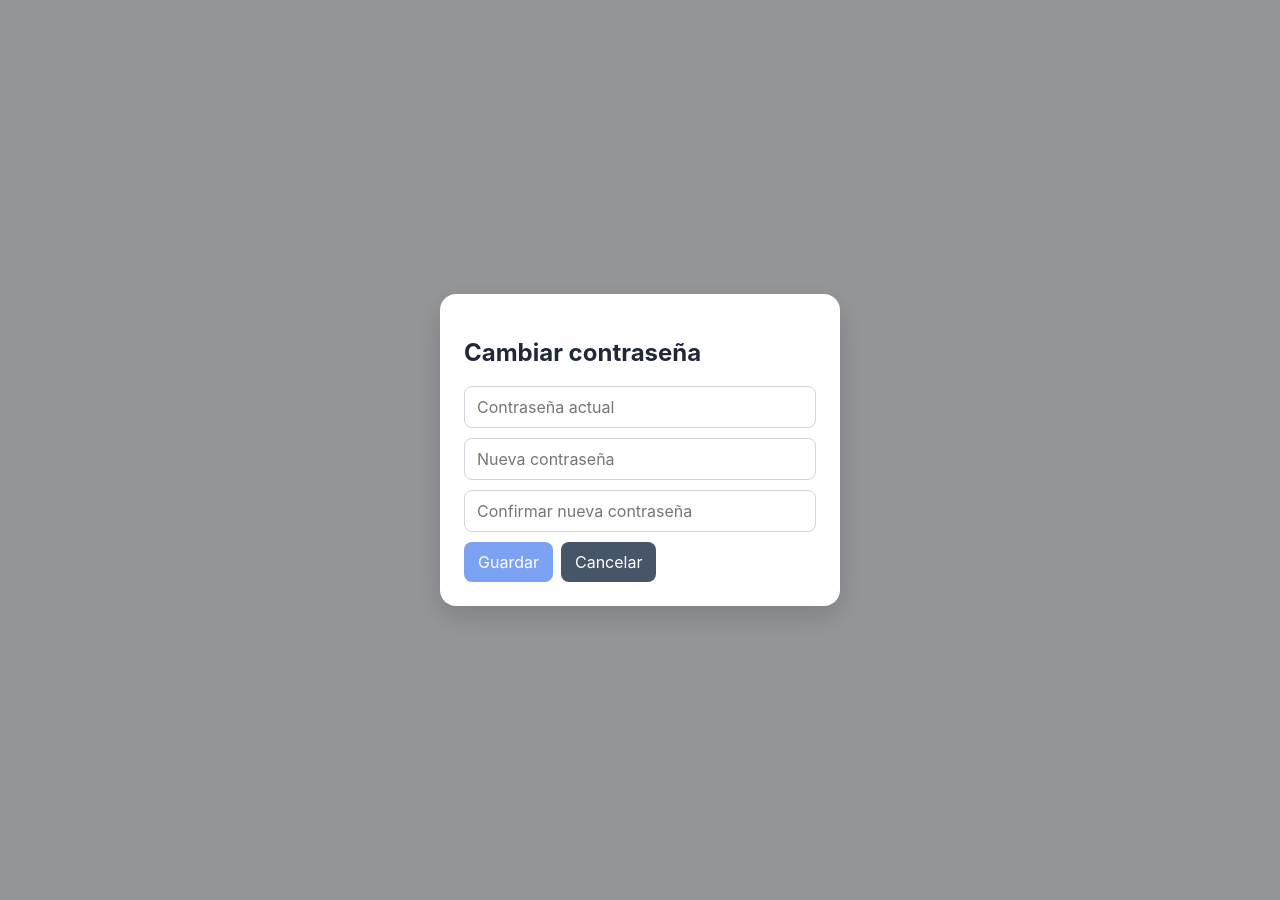
Test: ChangePasswordModal › shows error when passwords do not match
The width and height of the screenshot is (1280, 900).
In the password field with placeholder "Contraseña actual": (640, 407) [464,386,816,428], type "old"
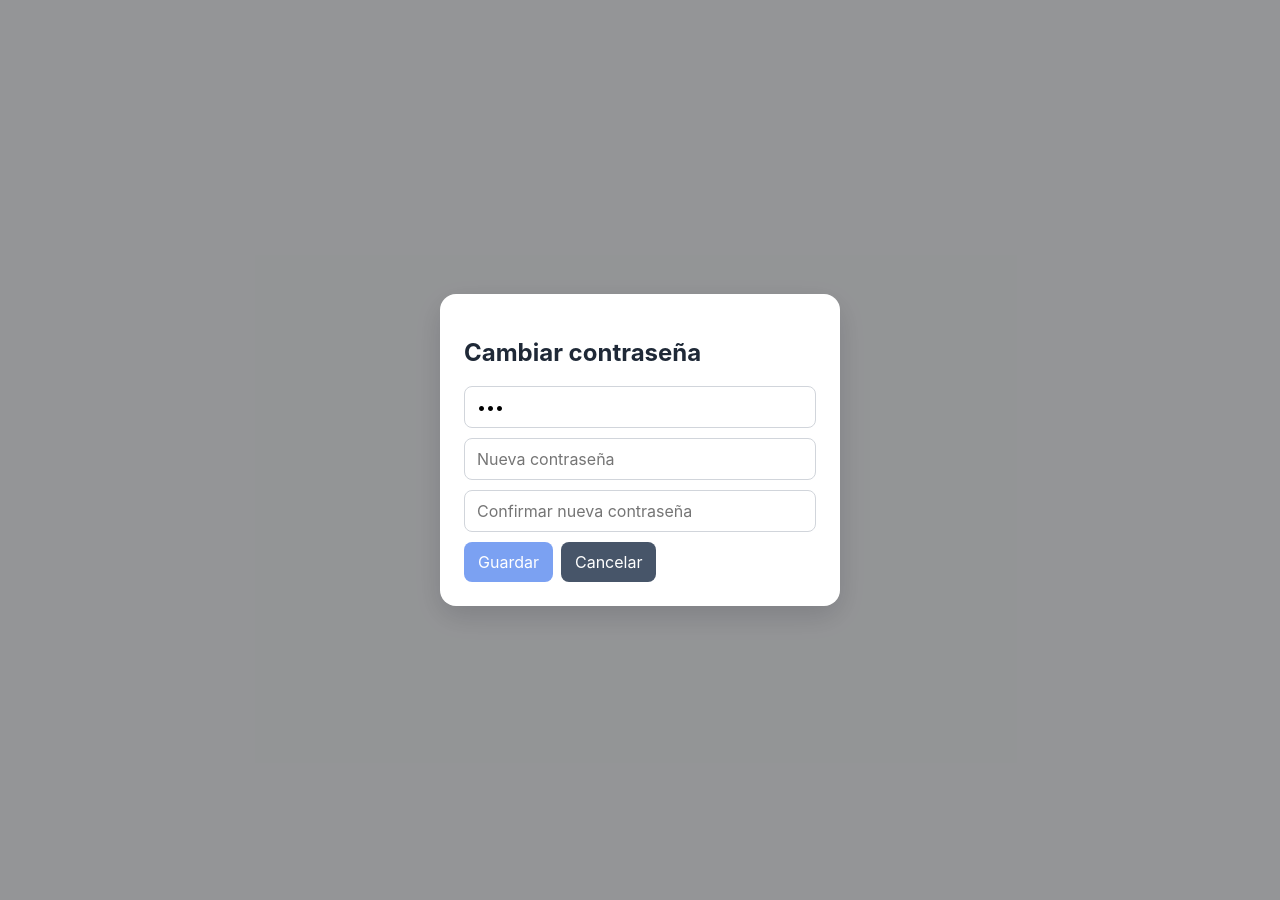
In the password field with placeholder "Nueva contraseña": (640, 459) [464,438,816,480], type "new123"
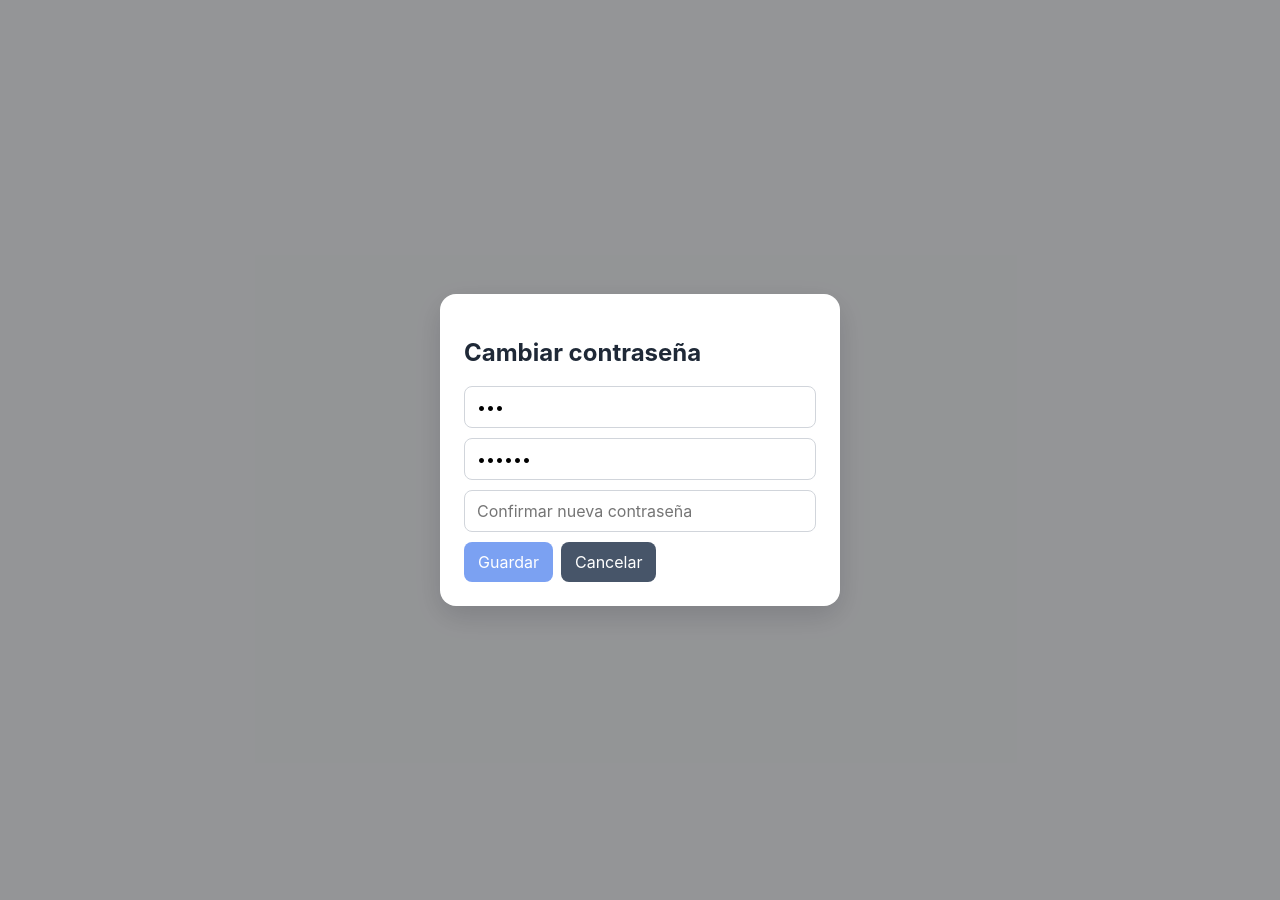
In the password field with placeholder "Confirmar nueva contraseña": (640, 511) [464,490,816,532], type "different"
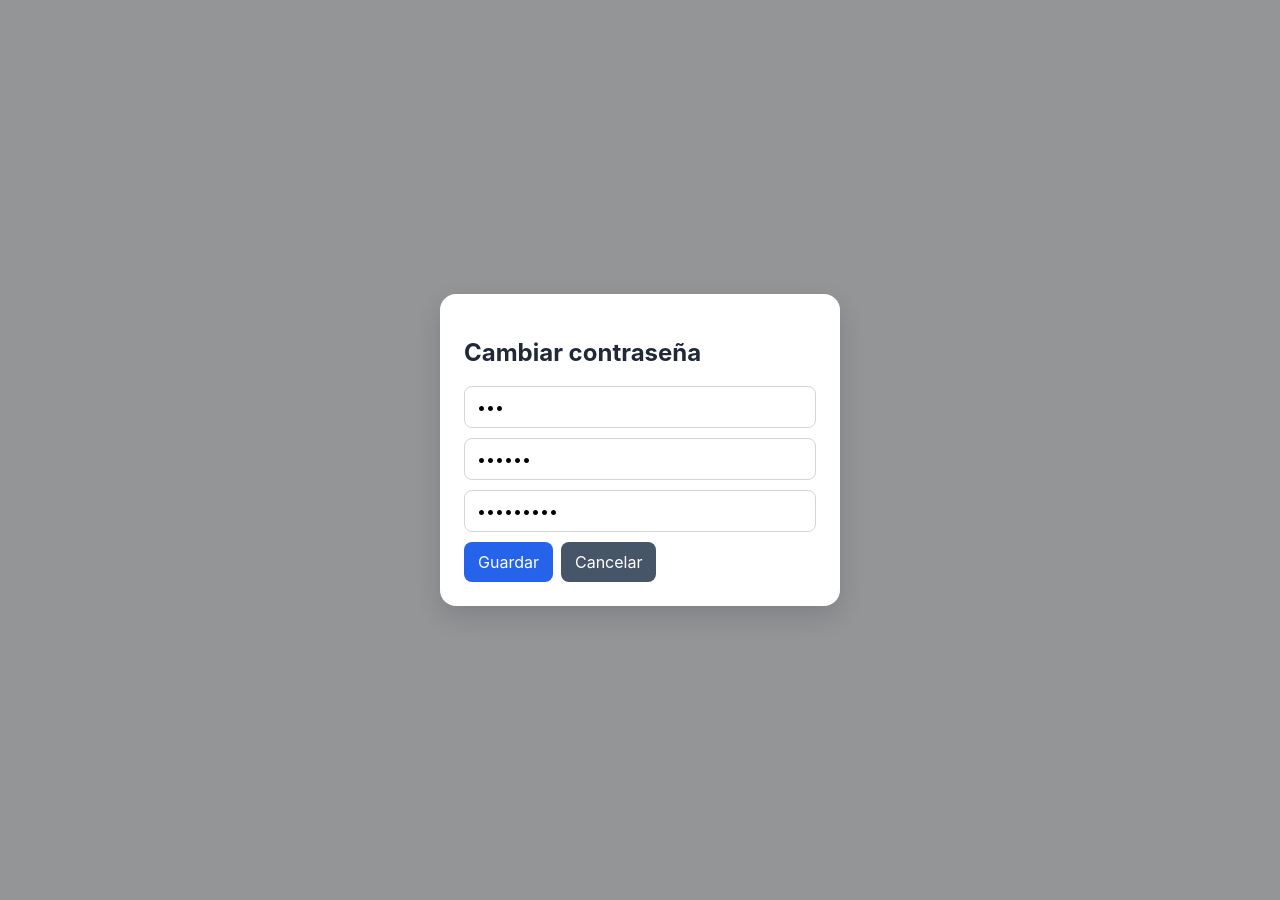
Click the button "Guardar": (508, 562) [464,542,553,582]
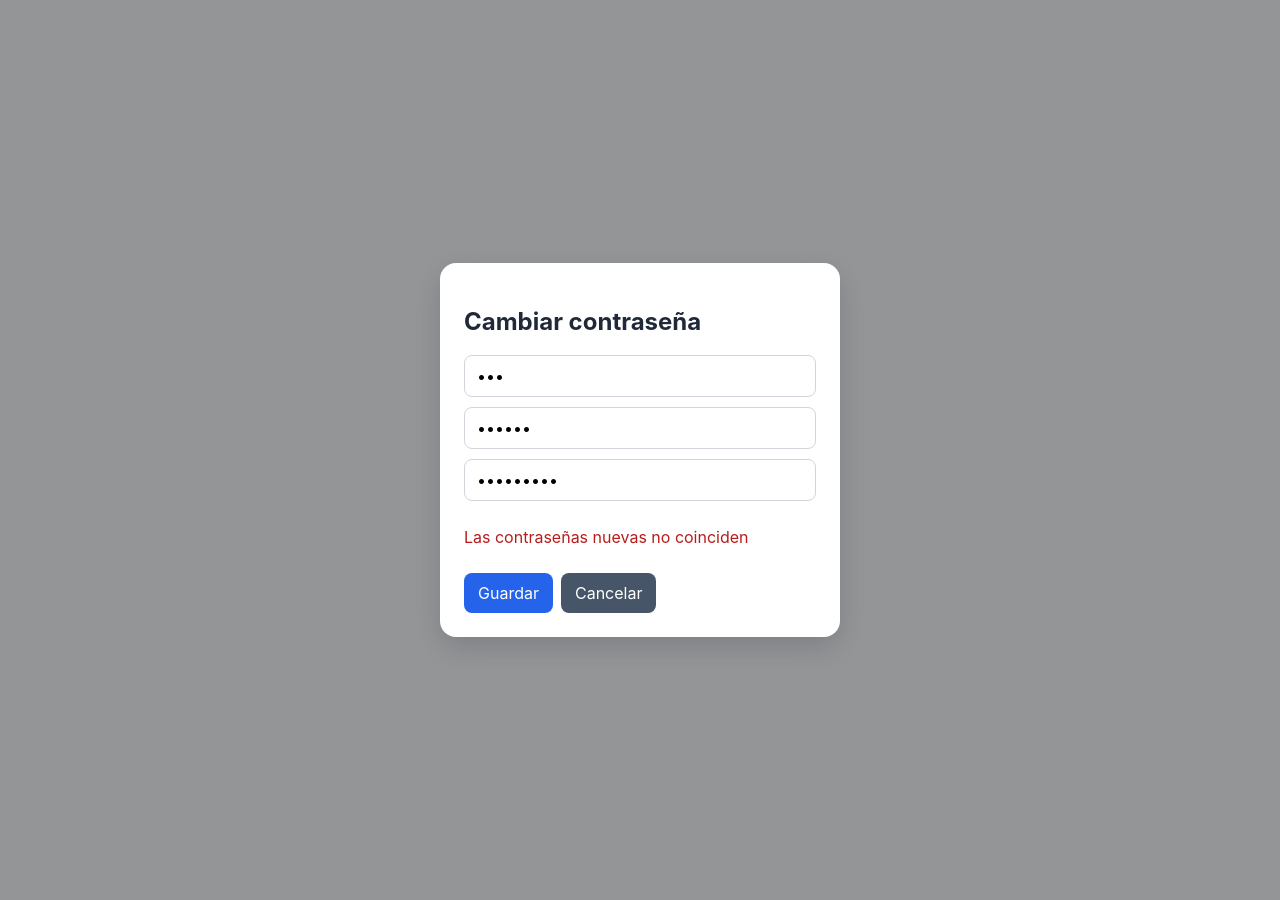
Check: the text "Las contraseñas nuevas no coinciden" is shown, box [464,527,748,547]
